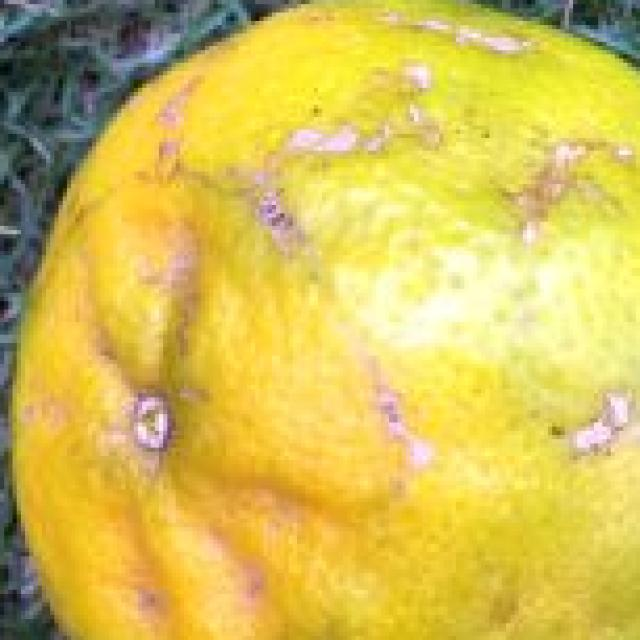Bad_Orange-0-1 day: (4, 0, 640, 640)
